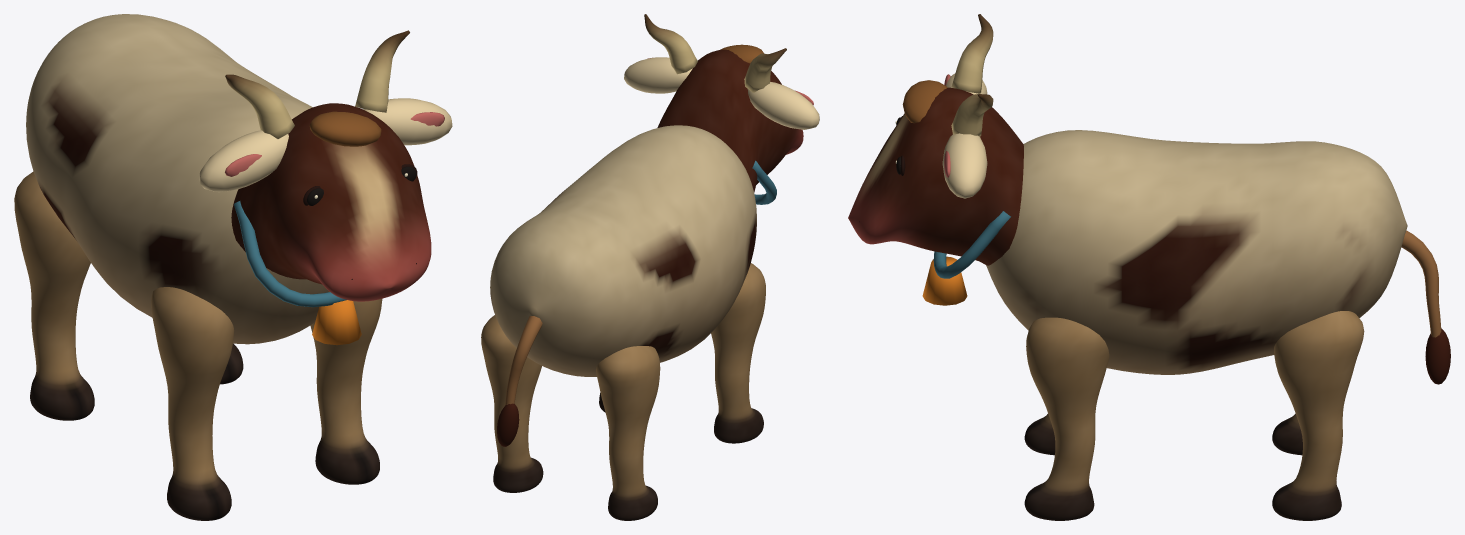
File: Cow.fbx
The picture shows the model from 3 angles, left to right: view 1: azimuth 30°, elevation 25°; view 2: azimuth 150°, elevation 25°; view 3: azimuth 270°, elevation 25°; orthographic projection. The views are drawn at different scales.
Parts seen in each view (by area): view 1: BodyMesh.002, HeadMesh.002, Leg_FLMesh.001, Leg_BLMesh.001, Leg_FRMesh.001, Leg_BRMesh.001; view 2: BodyMesh.002, HeadMesh.002, Leg_BLMesh.001, Leg_FLMesh.001, Leg_BRMesh.001, TailMesh.002; view 3: BodyMesh.002, HeadMesh.002, Leg_BRMesh.001, Leg_FRMesh.001, TailMesh.002, Leg_FLMesh.001, Leg_BLMesh.001.
Part boxes in pixels (x1,y1,x2,y2): BodyMesh.002: [26, 14, 329, 344]; HeadMesh.002: [199, 30, 452, 345]; Leg_FLMesh.001: [151, 287, 234, 520]; Leg_BLMesh.001: [14, 171, 94, 420]; Leg_FRMesh.001: [310, 299, 382, 484]; Leg_BRMesh.001: [220, 343, 243, 384]; BodyMesh.002: [490, 125, 756, 376]; HeadMesh.002: [624, 14, 819, 204]; Leg_BLMesh.001: [596, 346, 660, 520]; Leg_FLMesh.001: [711, 263, 765, 443]; Leg_BRMesh.001: [481, 315, 543, 492]; TailMesh.002: [497, 316, 542, 446]; BodyMesh.002: [986, 130, 1407, 374]; HeadMesh.002: [848, 14, 1023, 305]; Leg_BRMesh.001: [1272, 311, 1364, 520]; Leg_FRMesh.001: [1024, 317, 1109, 520]; TailMesh.002: [1401, 230, 1450, 384]; Leg_FLMesh.001: [1024, 414, 1055, 455]; Leg_BLMesh.001: [1272, 413, 1302, 455].
Bounding box in the file's own units: 105 × 189 × 241.
